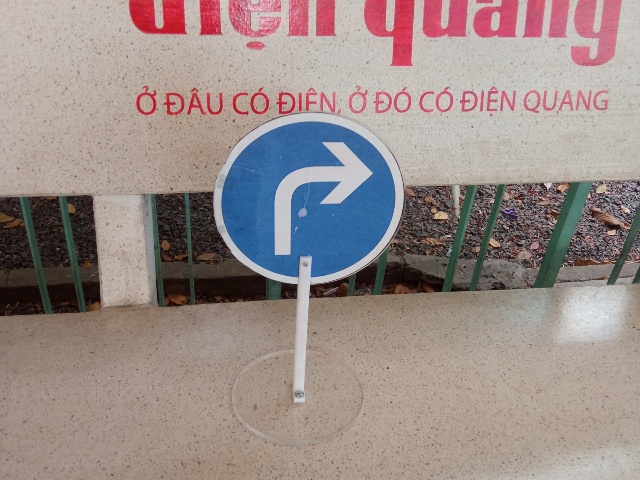Right_Sign: (214, 111, 406, 285)
